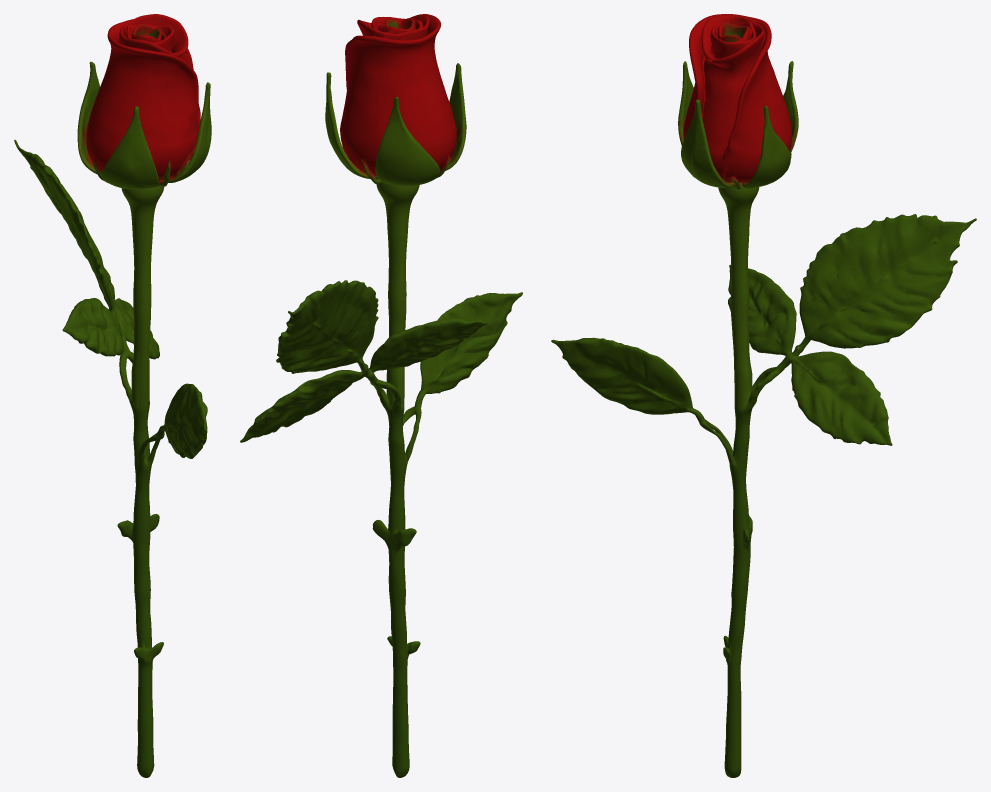
Rendered from Small Rose.glb.
3 renders of one model, left to right at view 1: azimuth 30°, elevation 25°; view 2: azimuth 150°, elevation 25°; view 3: azimuth 270°, elevation 25°, orthographic.
Visible parts, largest first — view 1: tripo_node_43f2ae53-e0d0-4391-a2f9-b22ad7b512fe; view 2: tripo_node_43f2ae53-e0d0-4391-a2f9-b22ad7b512fe; view 3: tripo_node_43f2ae53-e0d0-4391-a2f9-b22ad7b512fe.
Part boxes in pixels (box(x1,y1,x2,y2)): tripo_node_43f2ae53-e0d0-4391-a2f9-b22ad7b512fe: box(14, 14, 211, 777); tripo_node_43f2ae53-e0d0-4391-a2f9-b22ad7b512fe: box(240, 14, 522, 777); tripo_node_43f2ae53-e0d0-4391-a2f9-b22ad7b512fe: box(551, 14, 976, 777).
Size of the model in its own units: 0.2305 by 0.9999 by 0.5129.
1 material, 1 textured.
